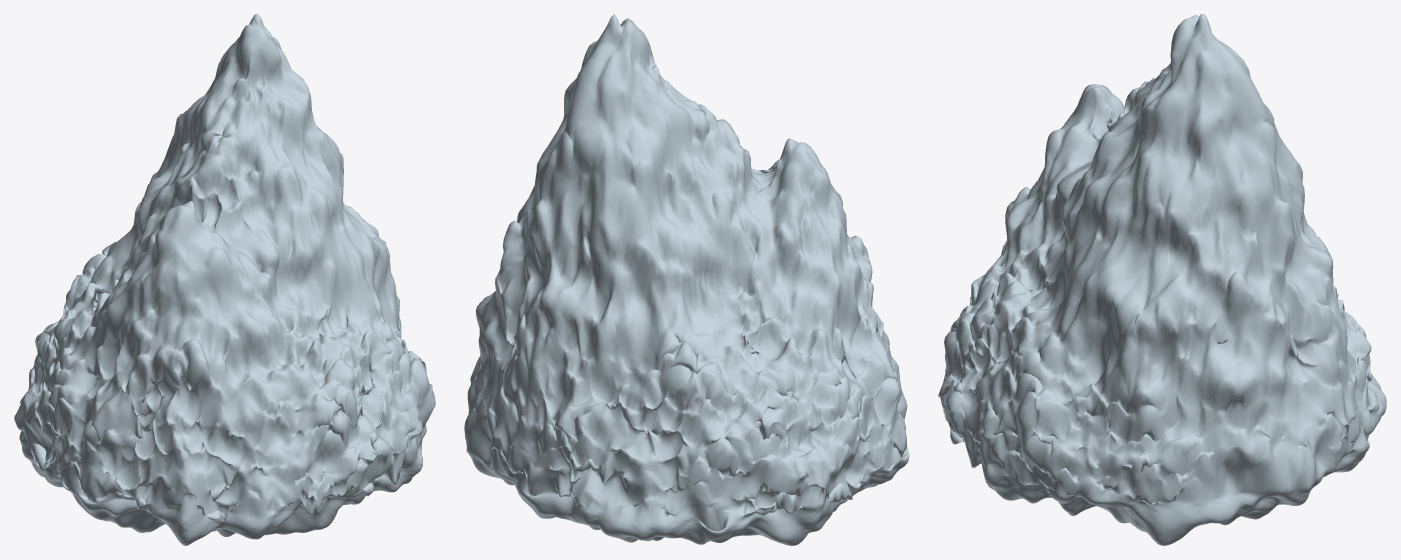
Rendered from Iceberg.fbx.
The picture shows the model from 3 angles, left to right: view 1: azimuth 30°, elevation 25°; view 2: azimuth 150°, elevation 25°; view 3: azimuth 270°, elevation 25°; orthographic projection. The views are drawn at different scales.
Parts seen in each view (by area): view 1: Titanic_Eisberg; view 2: Titanic_Eisberg; view 3: Titanic_Eisberg.
Boxes of the visible parts, <box> form: Titanic_Eisberg: <box>14,14,435,545</box>; Titanic_Eisberg: <box>464,14,909,545</box>; Titanic_Eisberg: <box>938,14,1386,545</box>.
Size of the model in its own units: 1019 by 1267 by 1035.
